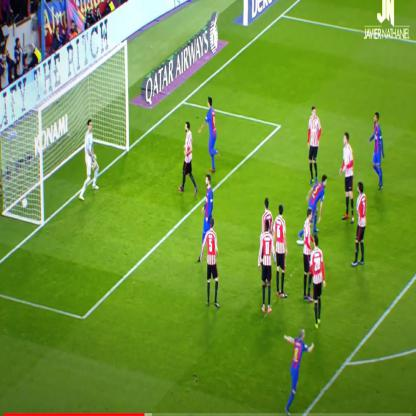goal: (8, 163, 51, 255)
